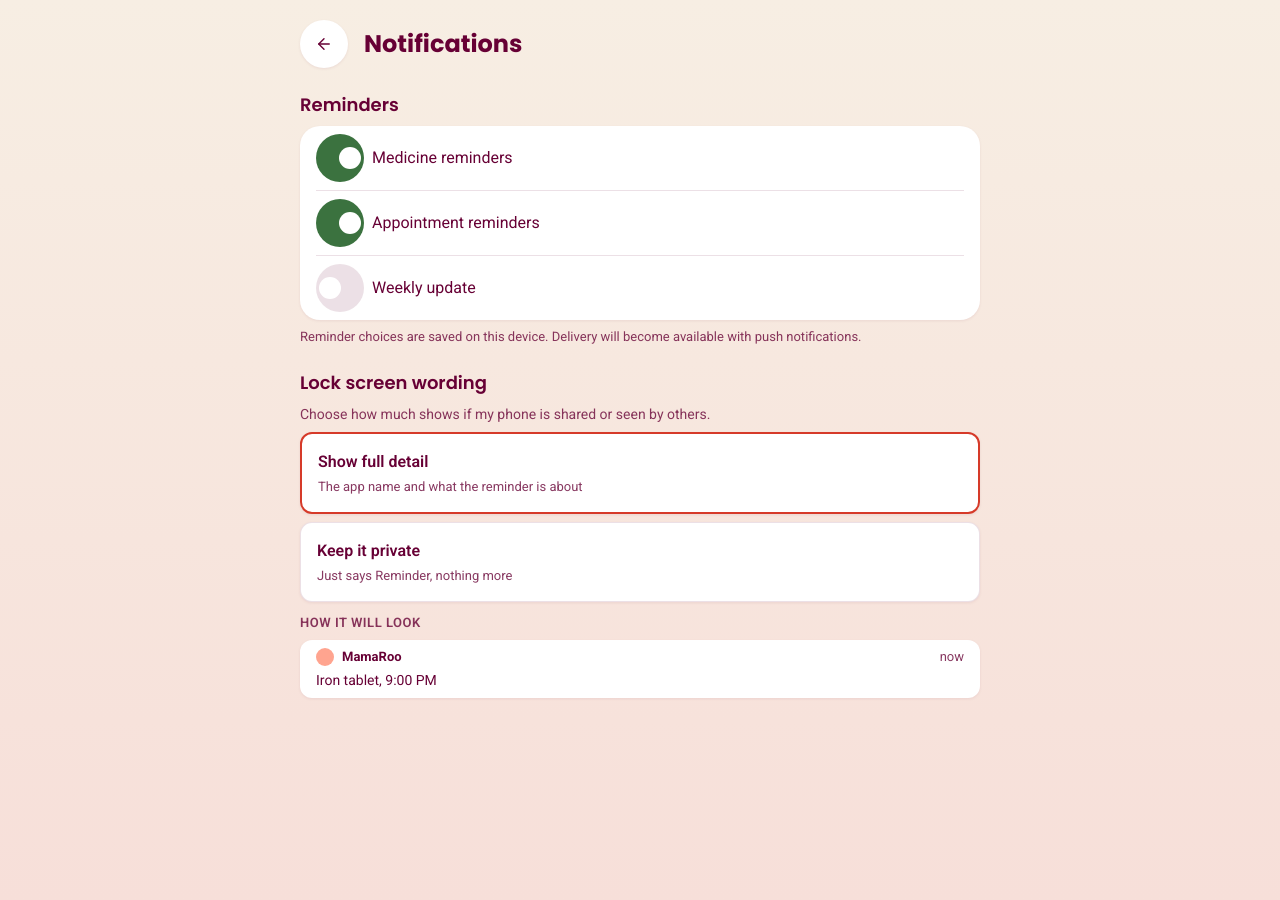
Test: NotificationsScreen › explains when every reminder is off
Click the switch named "Medicine reminders" next to "Medicine reminders" at (340, 158), box [316,134,364,182]
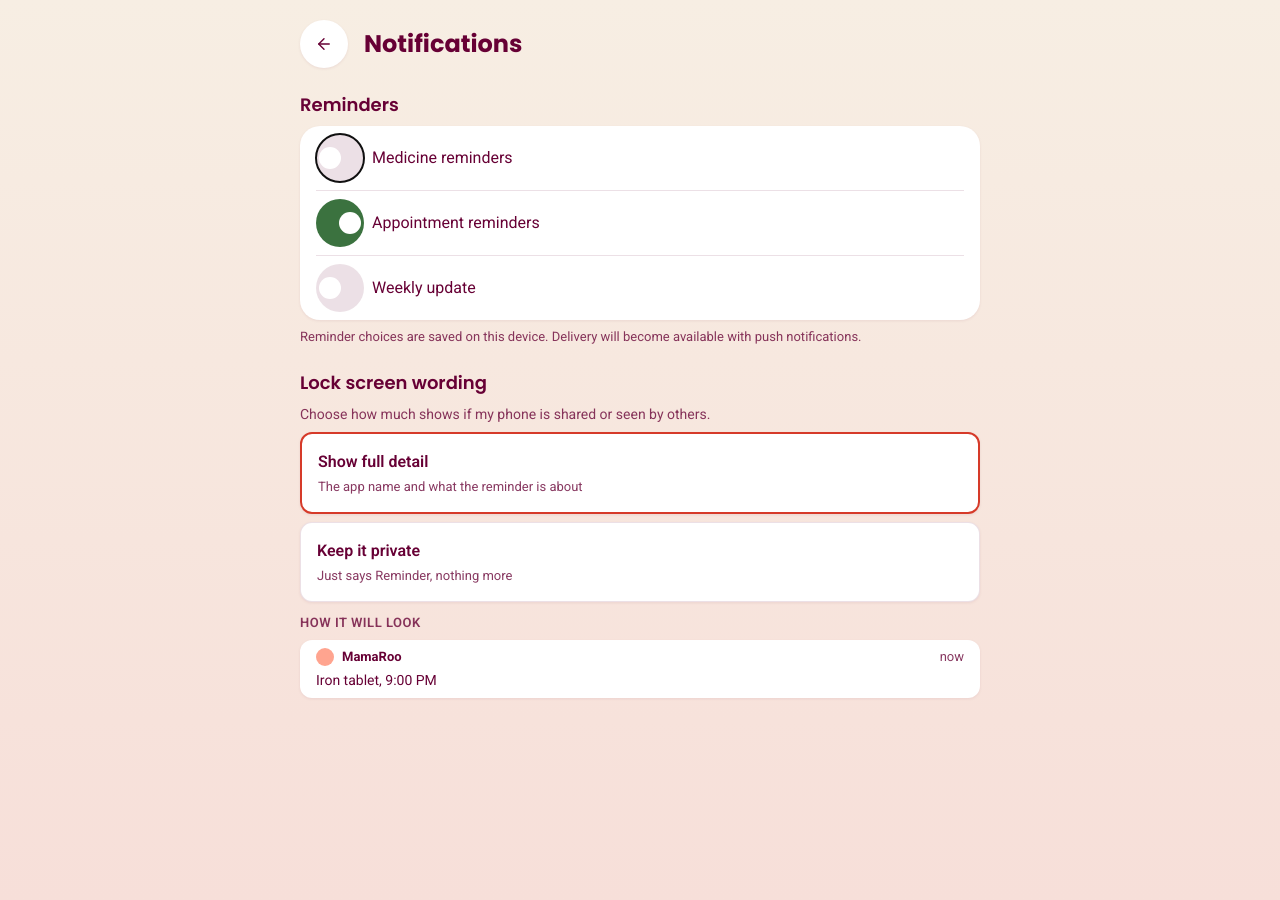
Click the switch named "Appointment reminders" next to "Appointment reminders" at (340, 223), box [316,199,364,247]
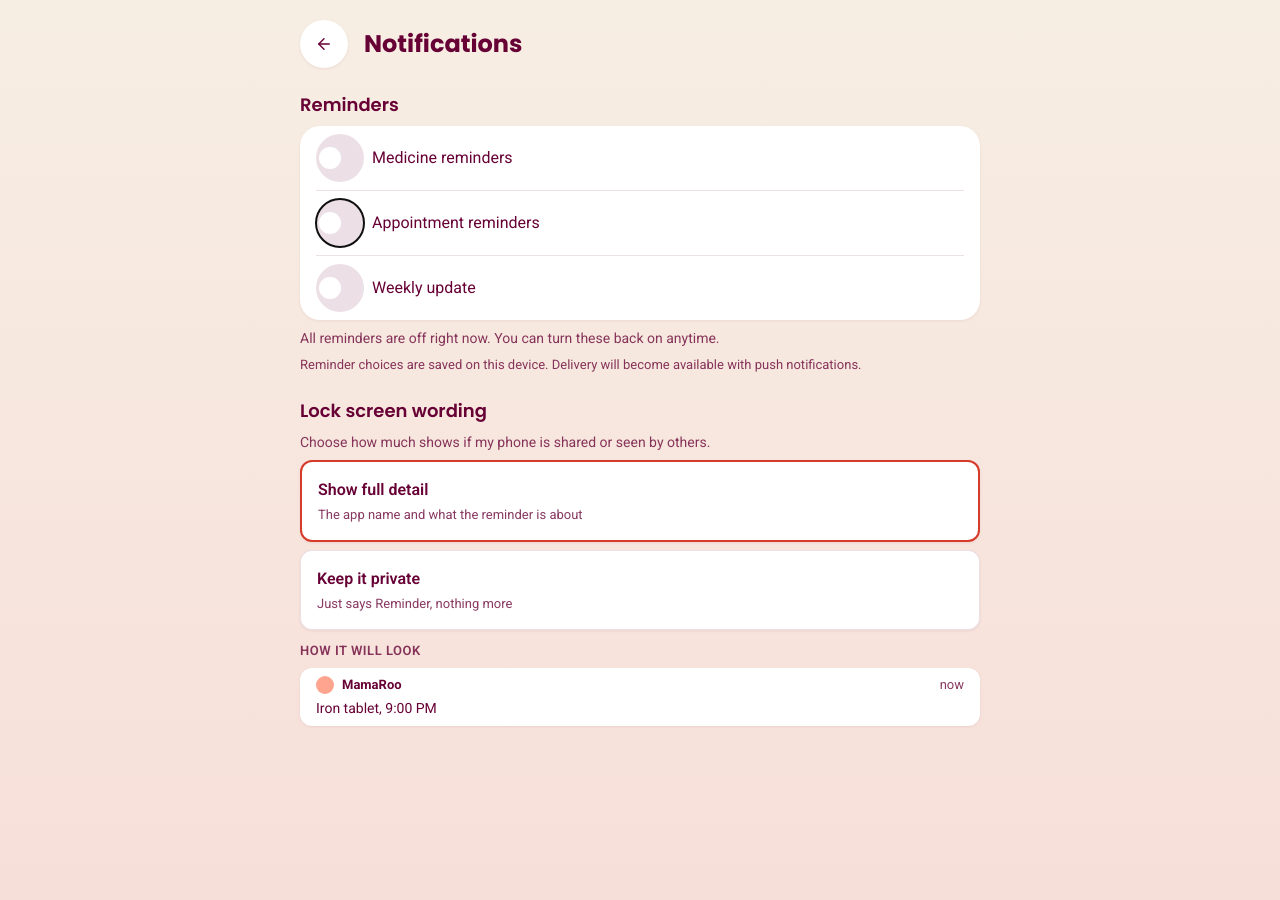
Check: the text "All reminders are off" is shown, box [300,330,720,346]
